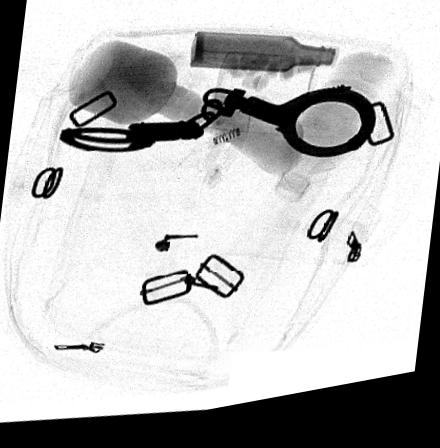HandCuffs: (57, 95, 375, 170)
